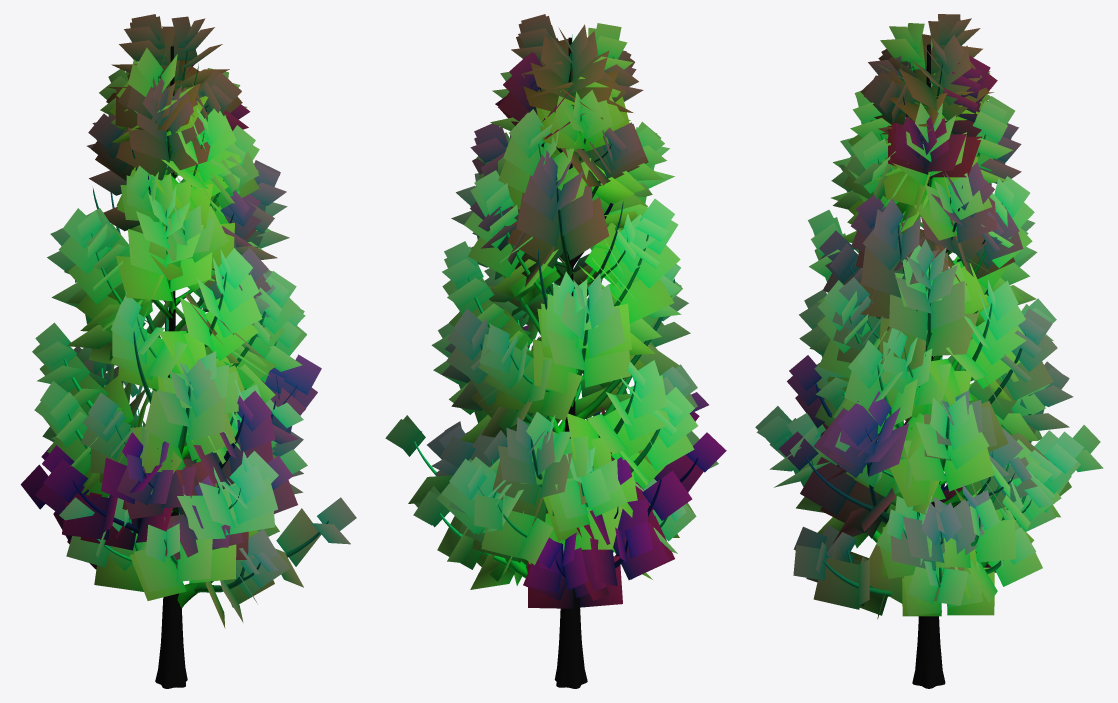
The model's file is SM_Tree3.fbx.
The picture shows the model from 3 angles, left to right: view 1: azimuth 30°, elevation 25°; view 2: azimuth 150°, elevation 25°; view 3: azimuth 270°, elevation 25°; orthographic projection.
Parts seen in each view (by area): view 1: _1, _0; view 2: _1, _0; view 3: _1, _0.
Part boxes in pixels (left/top/right/bottom): _1: left=20, top=14, right=356, bottom=628; _0: left=56, top=42, right=328, bottom=688; _1: left=385, top=14, right=726, bottom=608; _0: left=414, top=34, right=697, bottom=688; _1: left=755, top=14, right=1103, bottom=619; _0: left=786, top=44, right=1054, bottom=688.
Size of the model in its own units: 466 by 1015 by 486.
